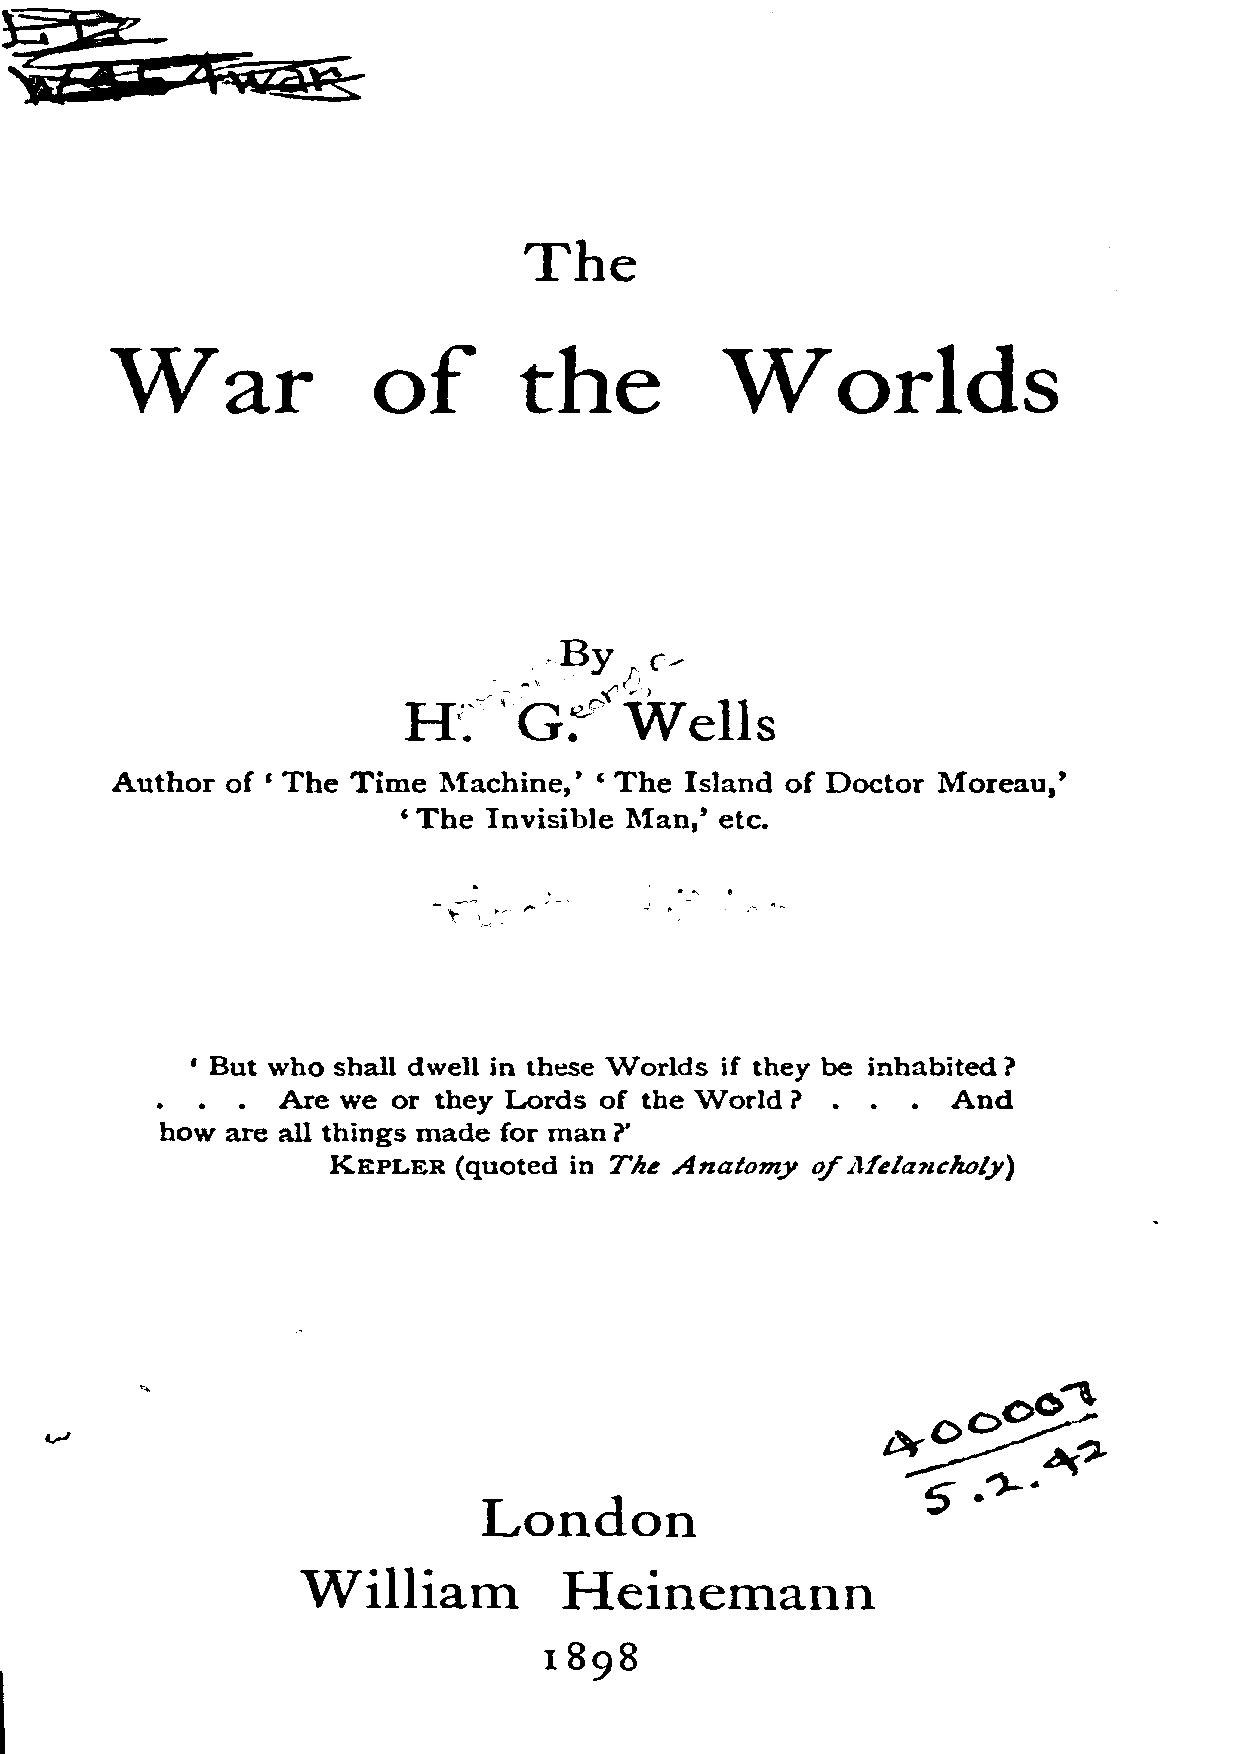author: (399, 636, 778, 746)
title: (102, 239, 1066, 417)
